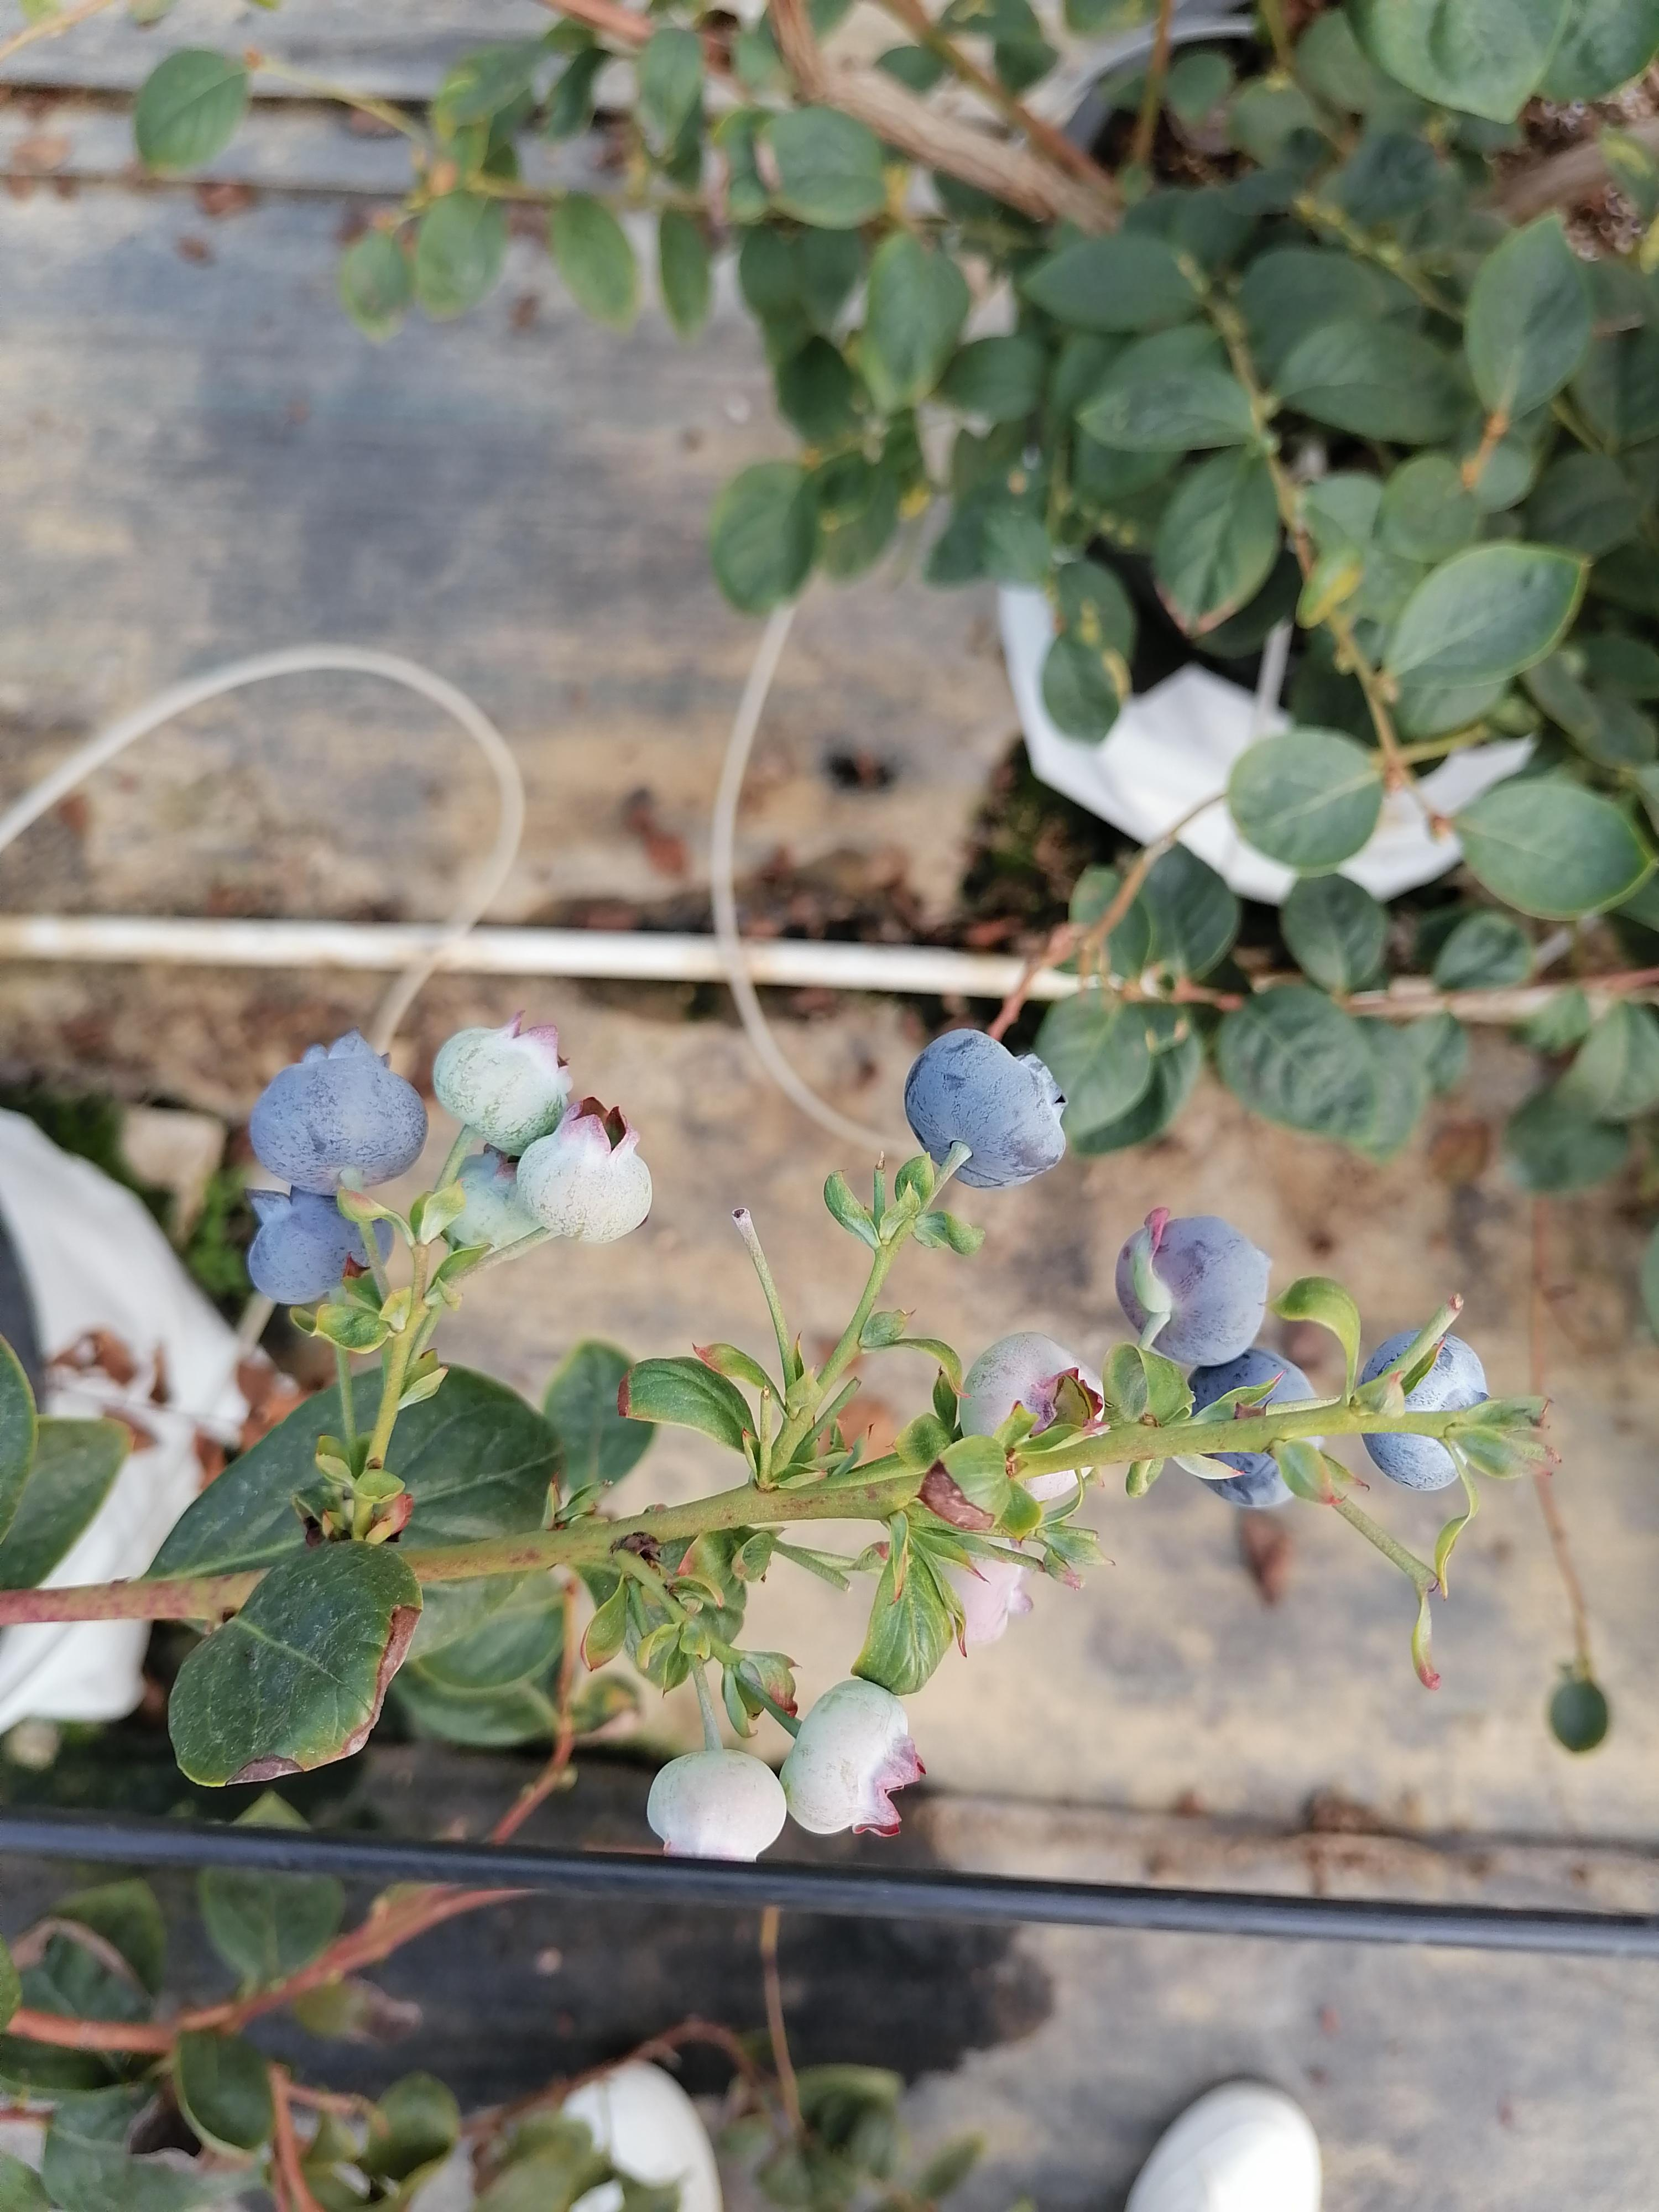ripe-blueberries: (249, 1028, 427, 1195), (904, 1028, 1068, 1191), (1171, 1352, 1333, 1512), (1114, 1211, 1276, 1369), (1356, 1325, 1493, 1489), (247, 1186, 396, 1305)
